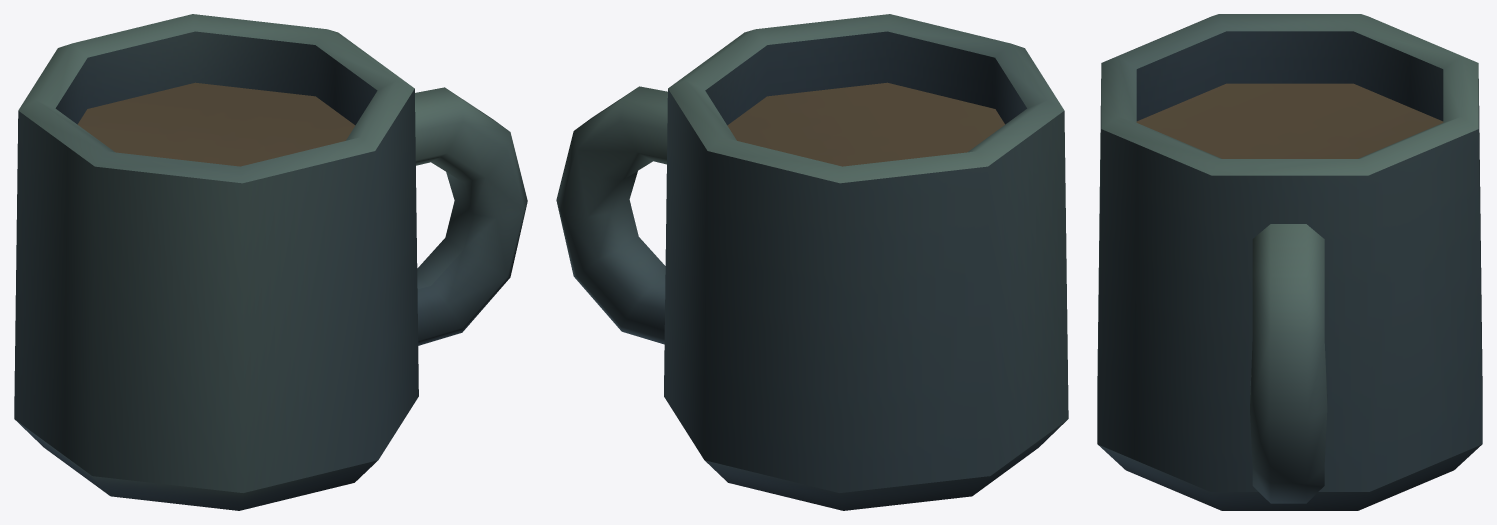
The model's file is cup_coffee.fbx.
The picture shows the model from 3 angles, left to right: view 1: azimuth 30°, elevation 25°; view 2: azimuth 150°, elevation 25°; view 3: azimuth 270°, elevation 25°; orthographic projection. The views are drawn at different scales.
Parts seen in each view (by area): view 1: cup_coffee; view 2: cup_coffee; view 3: cup_coffee.
Boxes of the visible parts, x1=… form: cup_coffee: x1=14, y1=14, x2=527, y2=510; cup_coffee: x1=556, y1=14, x2=1068, y2=510; cup_coffee: x1=1097, y1=14, x2=1482, y2=510.
Bounding box in the file's own units: 32.88 × 23.53 × 23.13.
